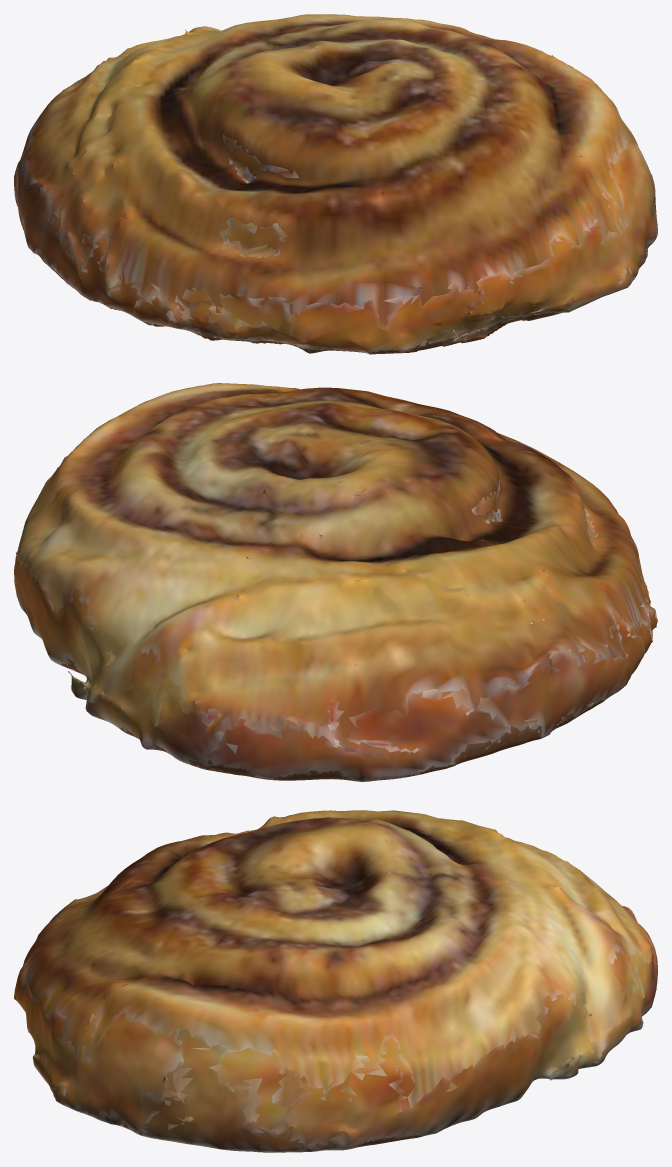
File: cinnamon_27252.obj
3 views of the same model, one above another, from view 1: azimuth 30°, elevation 25°; view 2: azimuth 150°, elevation 25°; view 3: azimuth 270°, elevation 25° (orthographic). The views are drawn at different scales.
Bounding box in the file's own units: 111 × 34.02 × 115.
1 material, 1 textured.
